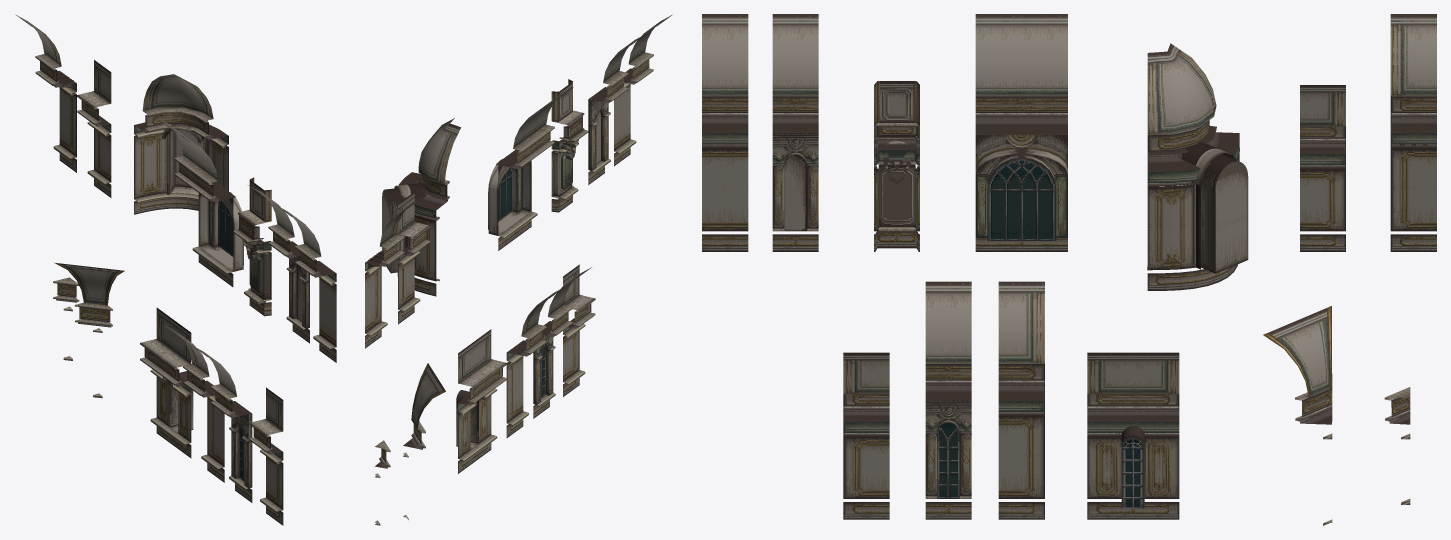
File: EnvMdrMD_Mansion_A_Wall_Arch_A.FBX
The picture shows the model from 3 angles, left to right: view 1: azimuth 30°, elevation 25°; view 2: azimuth 150°, elevation 25°; view 3: azimuth 270°, elevation 25°; orthographic projection. The views are drawn at different scales.
Parts seen in each view (by area): view 1: EnvMdrMD_Mansion_A_Wall_CoIn_A_2F, EnvMdrMD_Mansion_A_Wall_Window_B, EnvMdrMD_Mansion_A_Wall_Window_A, EnvMdrMD_Mansion_A_Wall_Deco, EnvMdrMD_Mansion_A_Wall_Window_C, EnvMdrMD_Mansion_A_Wall_Loop_2F, EnvMdrMD_Mansion_A_Wall_RS_2F, EnvMdrMD_Mansion_A_Wall_Arch_A, EnvMdrMD_Mansion_A_Wall_LS, EnvMdrMD_Mansion_A_Wall_RS, EnvMdrMD_Mansion_A_Wall_LS_2F, EnvMdrMD_Mansion_A_Wall_CoOut_A_2F (+1 smaller); view 2: EnvMdrMD_Mansion_A_Wall_CoIn_A_2F, EnvMdrMD_Mansion_A_Wall_Window_B, EnvMdrMD_Mansion_A_Wall_Window_A, EnvMdrMD_Mansion_A_Wall_Deco, EnvMdrMD_Mansion_A_Wall_Arch_A, EnvMdrMD_Mansion_A_Wall_LS_2F, EnvMdrMD_Mansion_A_Wall_Window_C, EnvMdrMD_Mansion_A_Wall_RS_2F, EnvMdrMD_Mansion_A_Wall_LS, EnvMdrMD_Mansion_A_Wall_Loop_2F, EnvMdrMD_Mansion_A_Wall_RS, EnvMdrMD_Mansion_A_Wall_CoOut_A_2F; view 3: EnvMdrMD_Mansion_A_Wall_Window_B, EnvMdrMD_Mansion_A_Wall_CoIn_A_2F, EnvMdrMD_Mansion_A_Wall_Window_A, EnvMdrMD_Mansion_A_Wall_Arch_A, EnvMdrMD_Mansion_A_Wall_Loop_2F, EnvMdrMD_Mansion_A_Wall_LS_2F, EnvMdrMD_Mansion_A_Wall_RS_2F, EnvMdrMD_Mansion_A_Wall_Window_C, EnvMdrMD_Mansion_A_Wall_RS, EnvMdrMD_Mansion_A_Wall_Deco, EnvMdrMD_Mansion_A_Wall_LS, EnvMdrMD_Mansion_A_Wall_CoOut_A_2F (+1 smaller).
Part boxes in pixels (x1,y1,x2,y2): EnvMdrMD_Mansion_A_Wall_CoIn_A_2F: (134,74,228,214); EnvMdrMD_Mansion_A_Wall_Window_B: (154,116,243,286); EnvMdrMD_Mansion_A_Wall_Window_A: (140,307,193,458); EnvMdrMD_Mansion_A_Wall_Deco: (233,177,271,316); EnvMdrMD_Mansion_A_Wall_Window_C: (191,345,252,502); EnvMdrMD_Mansion_A_Wall_Loop_2F: (275,204,336,362); EnvMdrMD_Mansion_A_Wall_RS_2F: (15,14,76,172); EnvMdrMD_Mansion_A_Wall_Arch_A: (248,185,309,343); EnvMdrMD_Mansion_A_Wall_LS: (77,60,111,197); EnvMdrMD_Mansion_A_Wall_RS: (249,387,283,525); EnvMdrMD_Mansion_A_Wall_LS_2F: (163,324,224,482); EnvMdrMD_Mansion_A_Wall_CoOut_A_2F: (54,262,124,398); EnvMdrMD_Mansion_A_Wall_CoIn_A_2F: (382,118,460,296); EnvMdrMD_Mansion_A_Wall_Window_B: (488,87,573,250); EnvMdrMD_Mansion_A_Wall_Window_A: (456,329,507,473); EnvMdrMD_Mansion_A_Wall_Deco: (551,79,588,212); EnvMdrMD_Mansion_A_Wall_Arch_A: (588,33,647,184); EnvMdrMD_Mansion_A_Wall_LS_2F: (506,286,565,437); EnvMdrMD_Mansion_A_Wall_Window_C: (533,267,591,418); EnvMdrMD_Mansion_A_Wall_RS_2F: (365,197,423,348); EnvMdrMD_Mansion_A_Wall_LS: (398,192,430,324); EnvMdrMD_Mansion_A_Wall_Loop_2F: (614,15,671,166); EnvMdrMD_Mansion_A_Wall_RS: (563,264,595,396); EnvMdrMD_Mansion_A_Wall_CoOut_A_2F: (403,363,445,519); EnvMdrMD_Mansion_A_Wall_Window_B: (975,14,1067,251); EnvMdrMD_Mansion_A_Wall_CoIn_A_2F: (1147,43,1248,290); EnvMdrMD_Mansion_A_Wall_Window_A: (1087,352,1179,519); EnvMdrMD_Mansion_A_Wall_Arch_A: (772,14,818,251); EnvMdrMD_Mansion_A_Wall_Loop_2F: (702,14,748,251); EnvMdrMD_Mansion_A_Wall_LS_2F: (998,281,1044,519); EnvMdrMD_Mansion_A_Wall_RS_2F: (1390,14,1436,251); EnvMdrMD_Mansion_A_Wall_Window_C: (925,281,971,519); EnvMdrMD_Mansion_A_Wall_RS: (843,352,889,519); EnvMdrMD_Mansion_A_Wall_Deco: (874,81,919,251); EnvMdrMD_Mansion_A_Wall_LS: (1300,85,1345,251); EnvMdrMD_Mansion_A_Wall_CoOut_A_2F: (1263,306,1332,525).
Size of the model in its own units: 737 by 2311 by 3188.
Materials: 1 (1 with a texture image).
